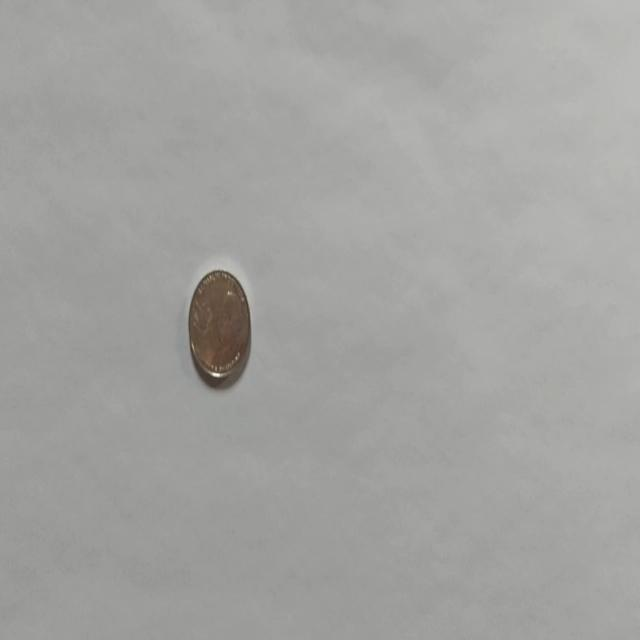lima ratus rupiah: (186, 267, 252, 385)
